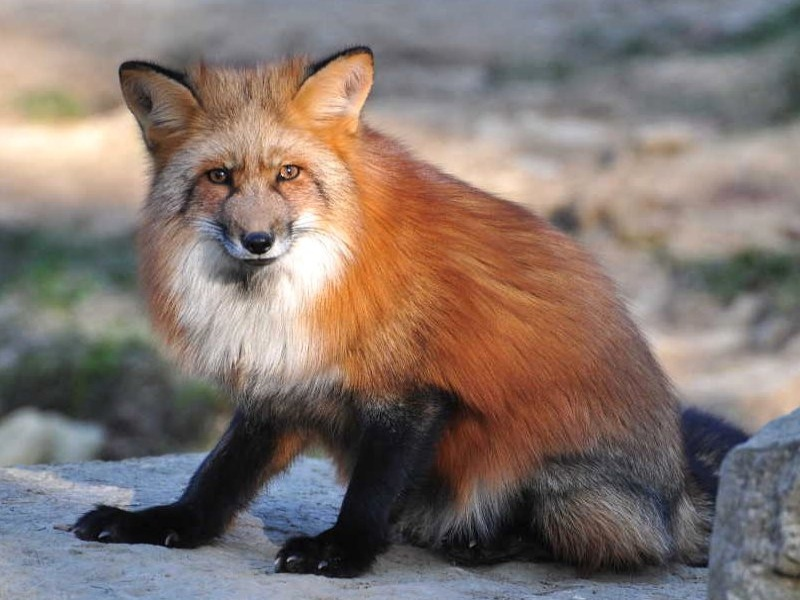fox: (72, 48, 743, 580)
